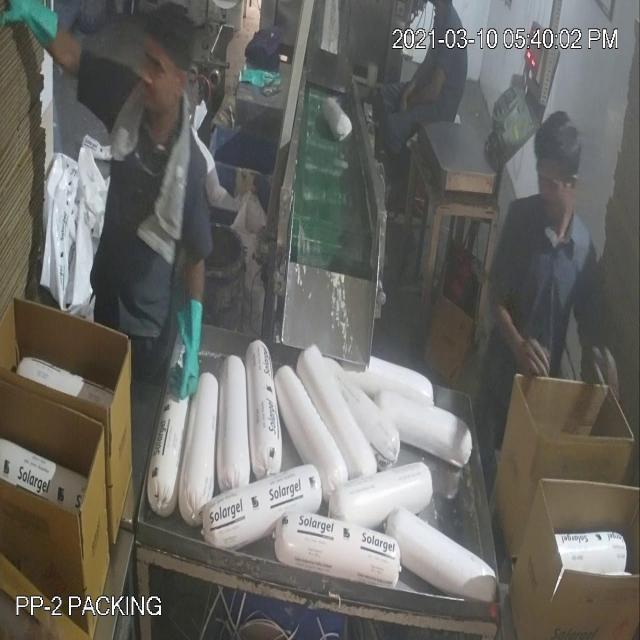Gloves: (36, 34, 602, 370)
